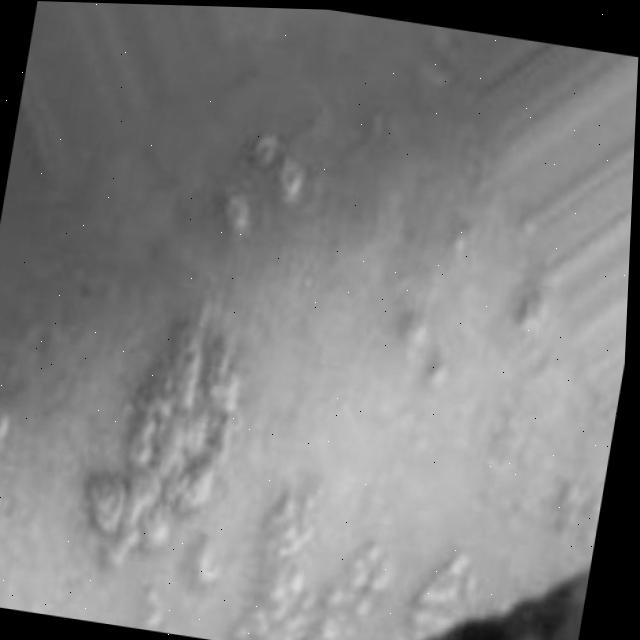Shingles: (48, 300, 509, 640), (221, 126, 317, 236)
